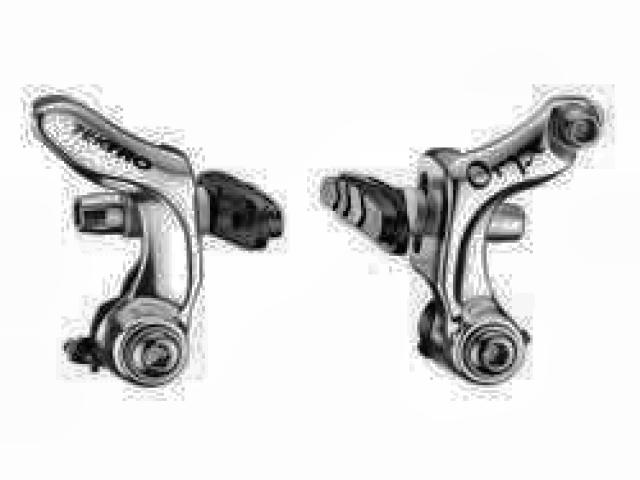rim_brake: (31, 87, 606, 388)
